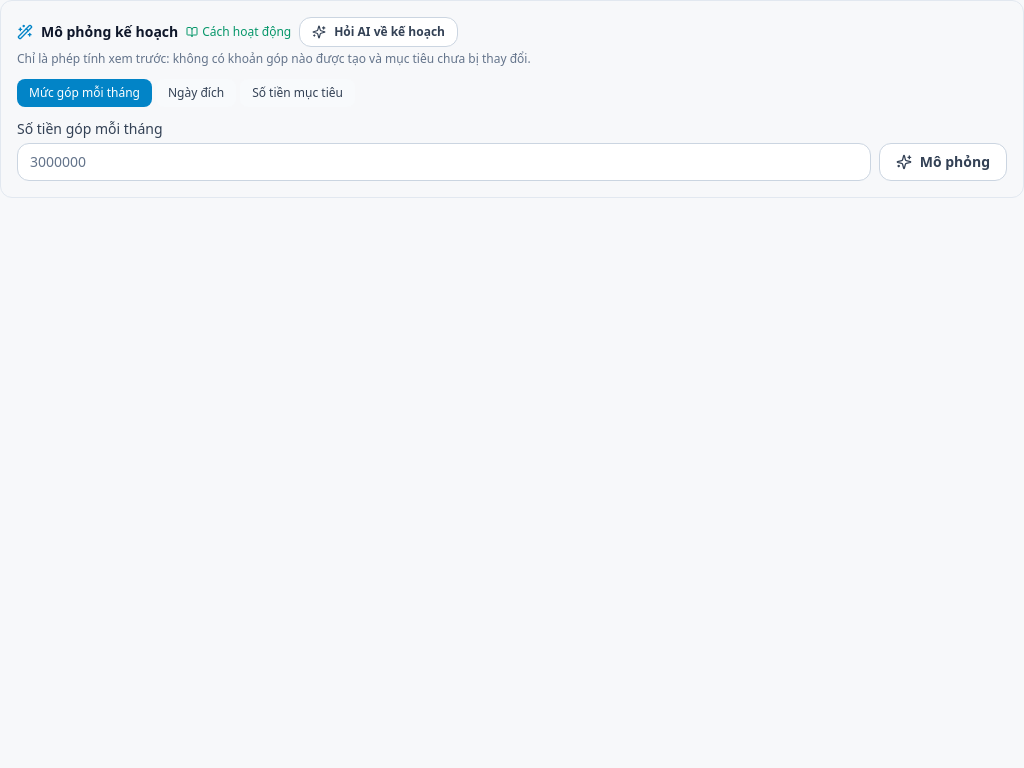
GoalPlanSimulator — read-only simulation › simulates a monthly amount and never writes
In the field labelled "Số tiền góp mỗi tháng": (444, 162) [17,143,871,181], type "2000000"
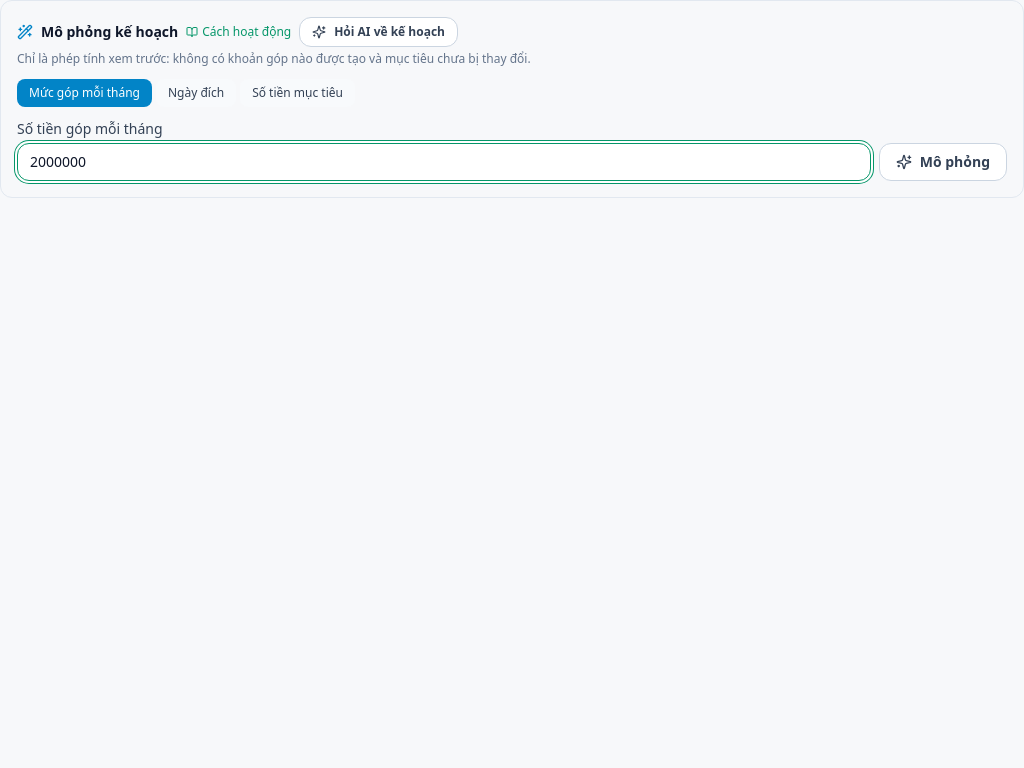
Click the button "Mô phỏng": (943, 162) [879,143,1007,181]
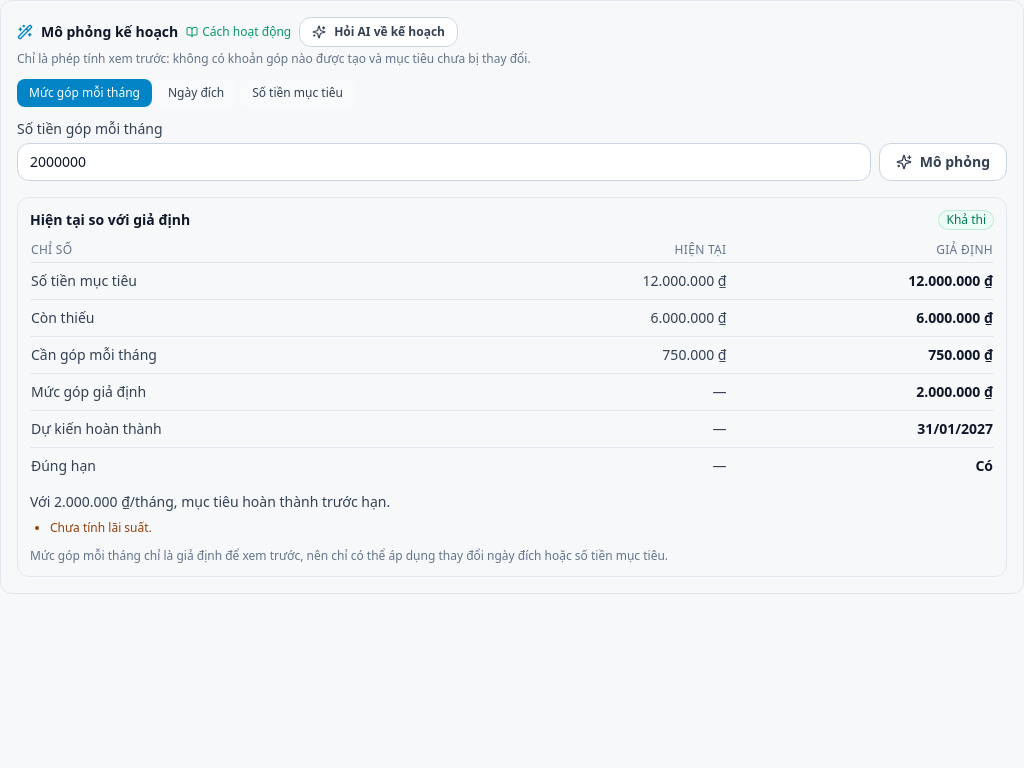
Expected: the heading "Hiện tại so với giả định" is shown, [30,210,190,230]
Expected: the text "Khả thi" is shown, [938,210,994,230]
Expected: the text "Với 2.000.000 ₫/tháng, mục tiêu hoàn thành trước hạn." is shown, [30,492,390,511]
